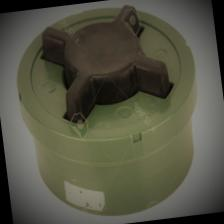PMN2: (8, 0, 219, 224)
